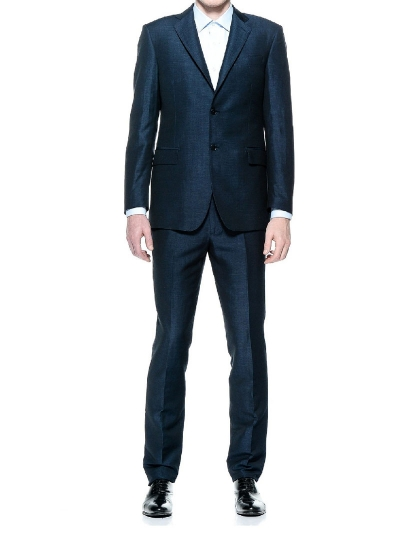feet: (131, 430, 268, 522)
